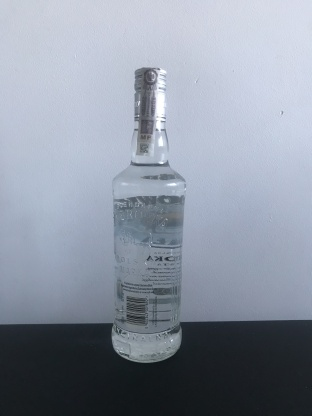nakretka: (131, 62, 169, 126)
